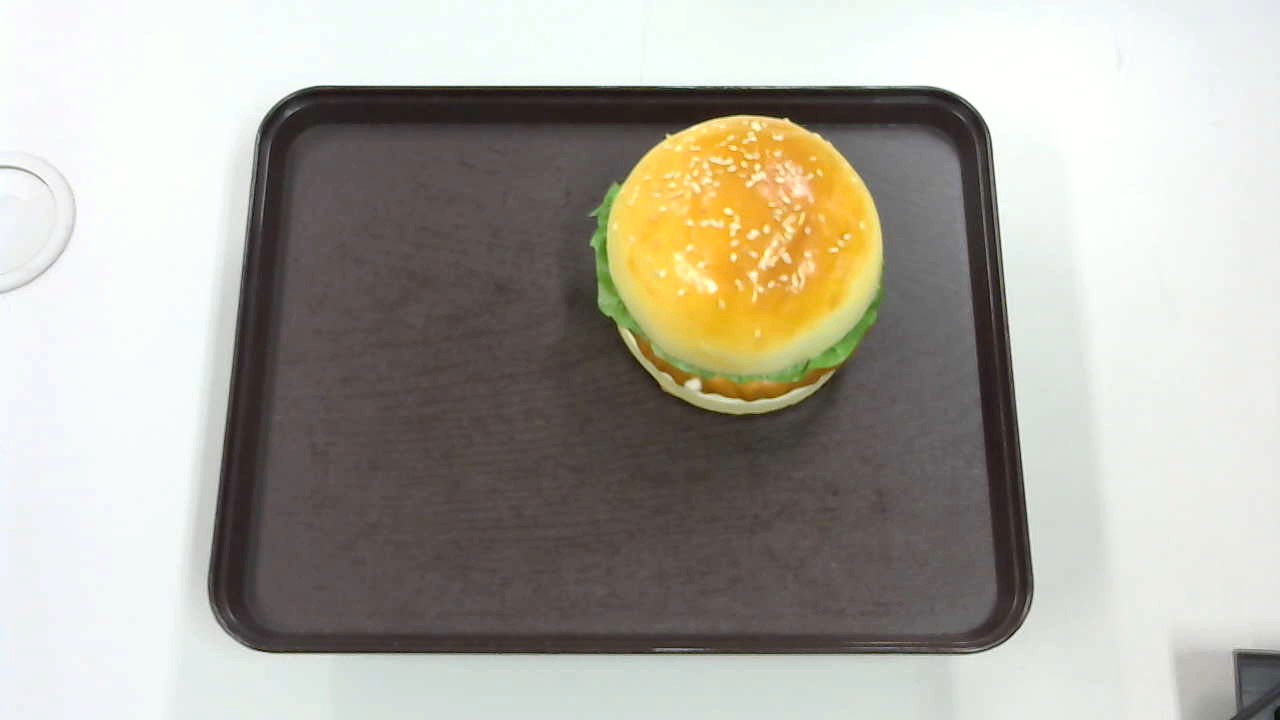hamburger: (590, 114, 884, 416)
